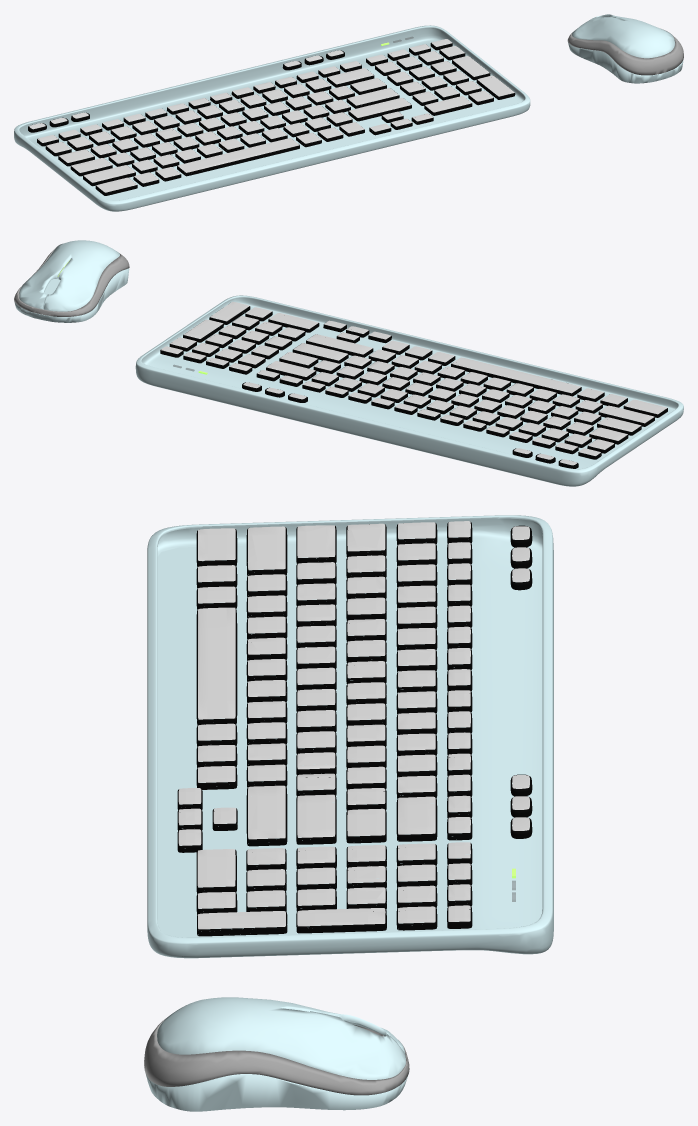
Rendered from keyboard10.glb.
The picture shows the model from 3 angles, top to bottom: view 1: azimuth 30°, elevation 25°; view 2: azimuth 150°, elevation 25°; view 3: azimuth 270°, elevation 25°; orthographic projection. The views are drawn at different scales.
Visible parts, largest first — view 1: Plane.017_4, Plane.027_2, Plane.015_1; view 2: Plane.017_4, Plane.027_2, Plane.015_1; view 3: Plane.017_4, Plane.027_2, Plane.015_1.
Part boxes in pixels (x1=…): Plane.017_4: x1=28, y1=39, x2=515, y2=195; Plane.027_2: x1=14, y1=25, x2=530, y2=211; Plane.015_1: x1=567, y1=14, x2=683, y2=83; Plane.017_4: x1=160, y1=301, x2=667, y2=468; Plane.027_2: x1=135, y1=295, x2=683, y2=486; Plane.015_1: x1=14, y1=240, x2=129, y2=322; Plane.017_4: x1=177, y1=521, x2=532, y2=936; Plane.027_2: x1=147, y1=515, x2=553, y2=958; Plane.015_1: x1=144, y1=997, x2=409, y2=1111.
Size of the model in its own units: 10.71 by 0.6622 by 3.24.
